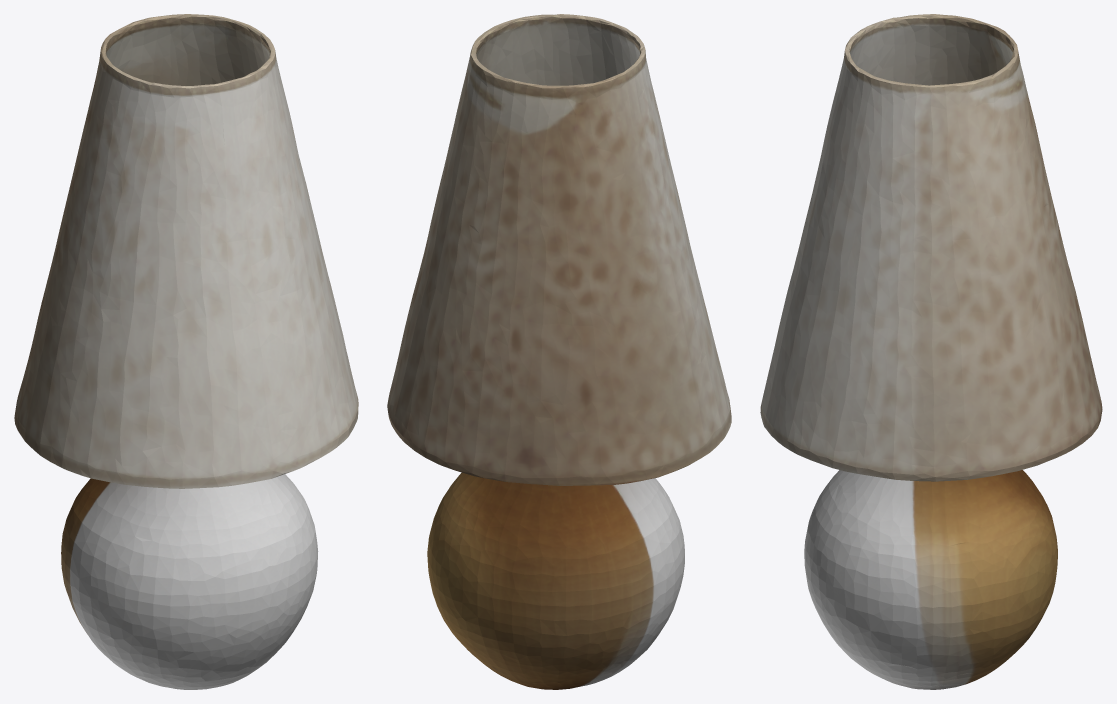
The picture shows the model from 3 angles, left to right: view 1: azimuth 30°, elevation 25°; view 2: azimuth 150°, elevation 25°; view 3: azimuth 270°, elevation 25°; orthographic projection.
Parts seen in each view (by area): view 1: world; view 2: world; view 3: world.
Part boxes in pixels (x1,y1,x2,y2): world: (14, 14, 358, 689); world: (387, 14, 731, 689); world: (760, 14, 1102, 689).
Bounding box in the file's own units: 0.4442 × 0.8894 × 0.4427.
Materials: 1 (1 with a texture image).
